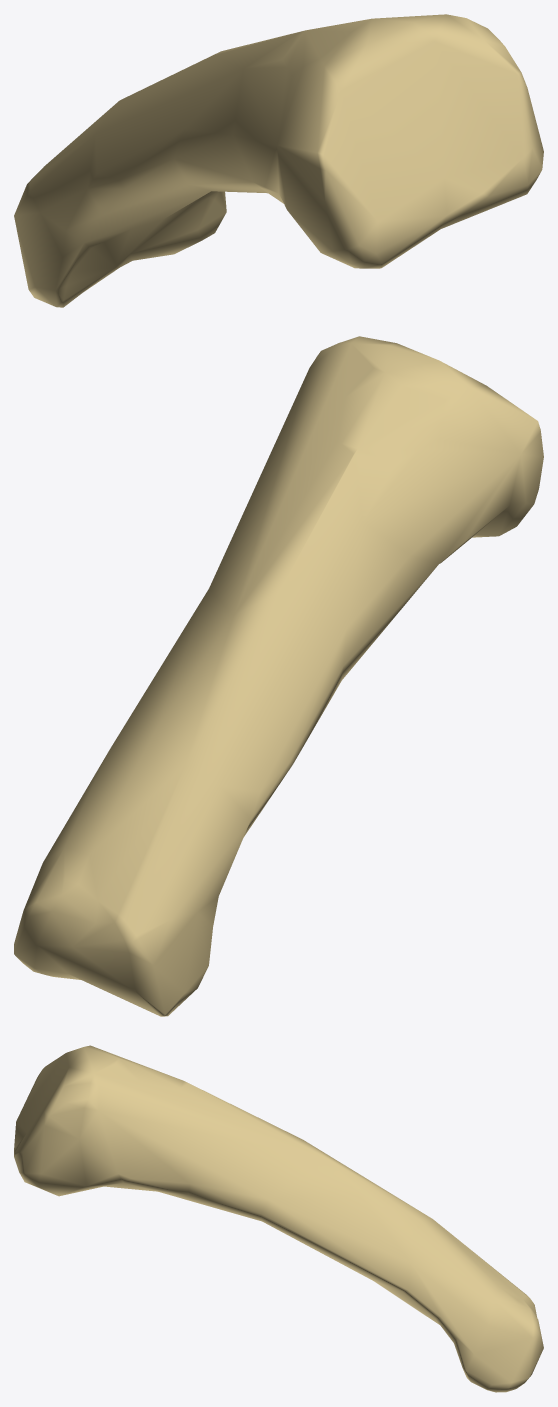
3 renders of one model, top to bottom at view 1: azimuth 30°, elevation 25°; view 2: azimuth 150°, elevation 25°; view 3: azimuth 270°, elevation 25°, orthographic. The views are drawn at different scales.
Visible parts, largest first — view 1: 左侧第四指近节指骨; view 2: 左侧第四指近节指骨; view 3: 左侧第四指近节指骨.
Part boxes in pixels (left/top/right/bottom): 左侧第四指近节指骨: left=14, top=14, right=543, bottom=307; 左侧第四指近节指骨: left=14, top=336, right=543, bottom=1016; 左侧第四指近节指骨: left=14, top=1045, right=543, bottom=1392.
Size of the model in its own units: 0.0206 by 0.0402 by 0.0596.
